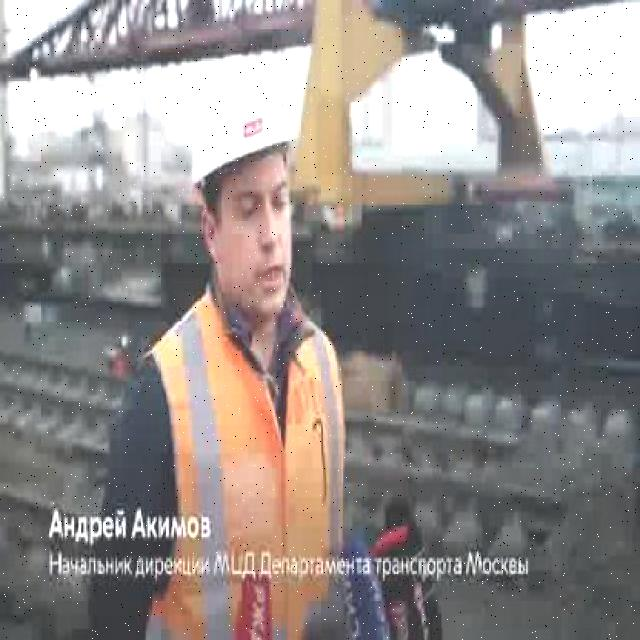Helmet: (192, 54, 294, 195)
Mask: (140, 274, 348, 640)
